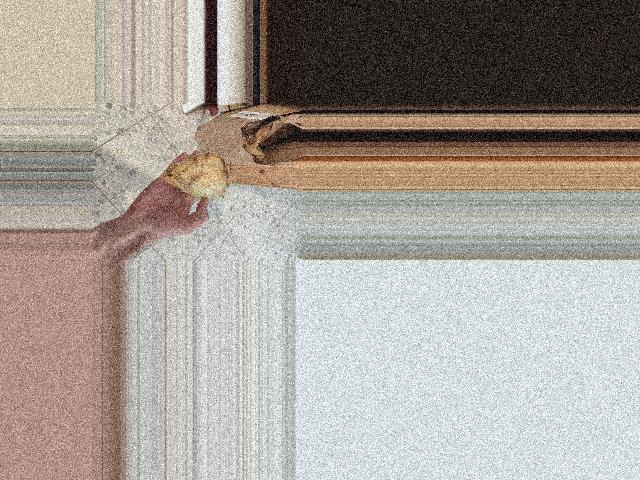onion: (160, 151, 233, 201)
